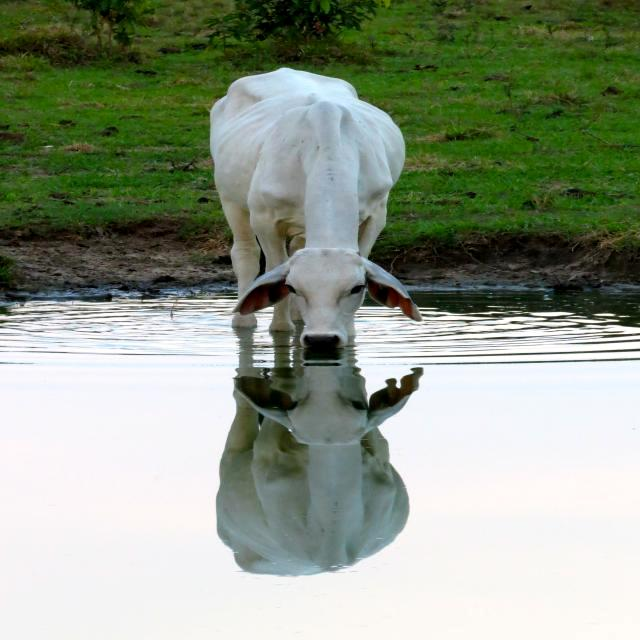COW: (209, 69, 421, 348)
